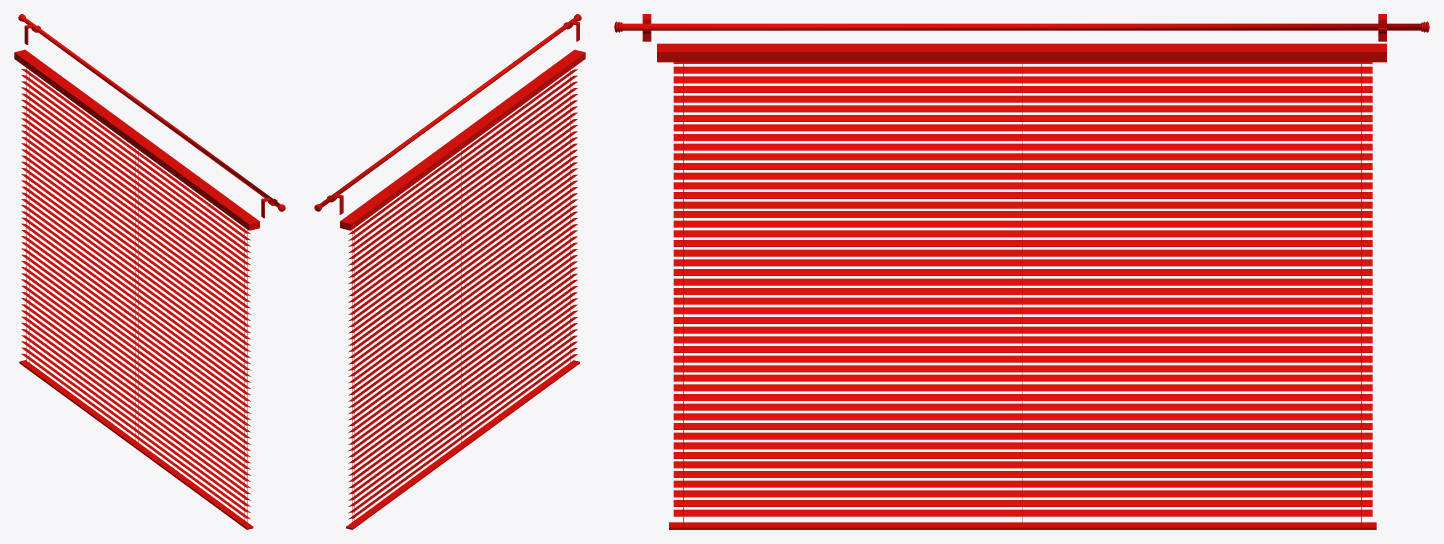
File: blinds.fbx
3 views of the same model, side by side, from view 1: azimuth 30°, elevation 25°; view 2: azimuth 150°, elevation 25°; view 3: azimuth 270°, elevation 25° (orthographic). The views are drawn at different scales.
Parts seen in each view (by area): view 1: Cube.001, Cube, Cube.003, Plane, Cube.004; view 2: Cube.001, Cube, Cube.003, Plane, Cube.004; view 3: Cube.001, Cube, Plane, Cube.003, Cube.004.
Part boxes in pixels (left/top/right/bottom): Cube.001: left=21, top=68, right=250, bottom=518; Cube: left=14, top=49, right=259, bottom=230; Cube.003: left=19, top=360, right=253, bottom=529; Plane: left=18, top=14, right=285, bottom=211; Cube.004: left=26, top=68, right=247, bottom=523; Cube.001: left=348, top=69, right=577, bottom=519; Cube: left=340, top=49, right=585, bottom=230; Cube.003: left=346, top=360, right=579, bottom=529; Plane: left=314, top=14, right=581, bottom=211; Cube.004: left=352, top=70, right=570, bottom=523; Cube.001: left=673, top=62, right=1372, bottom=516; Cube: left=657, top=43, right=1386, bottom=62; Plane: left=614, top=21, right=1429, bottom=32; Cube.003: left=669, top=522, right=1376, bottom=529; Cube.004: left=683, top=62, right=1361, bottom=526.
Bounding box in the file's own units: 14.55 × 193 × 276.
